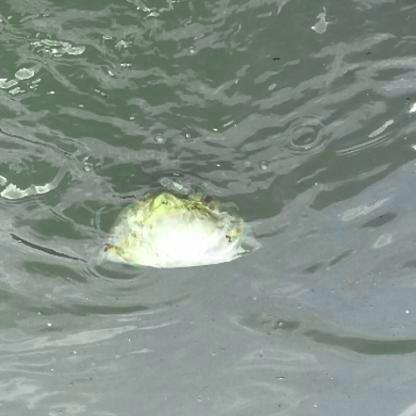Trash: (105, 188, 248, 279)
